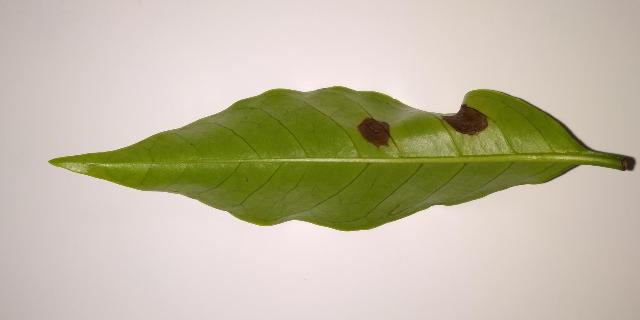rust: (440, 103, 488, 136), (358, 118, 390, 147)
